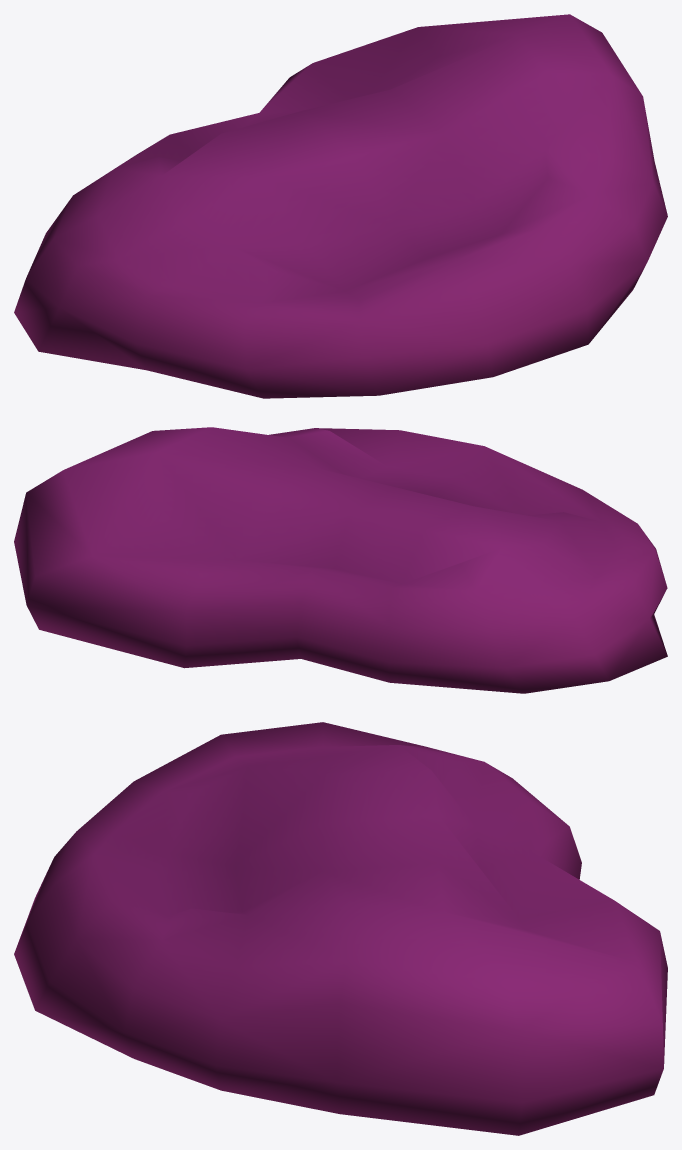
The model's file is Gum_Type3.fbx.
3 views of the same model, one above another, from view 1: azimuth 30°, elevation 25°; view 2: azimuth 150°, elevation 25°; view 3: azimuth 270°, elevation 25° (orthographic). The views are drawn at different scales.
Visible parts, largest first — view 1: Gum_Type3; view 2: Gum_Type3; view 3: Gum_Type3.
Boxes of the visible parts, x1,y1,x2,y2 form: Gum_Type3: [14, 14, 667, 398]; Gum_Type3: [14, 427, 667, 693]; Gum_Type3: [14, 722, 667, 1135].
Size of the model in its own units: 29.02 by 6.47 by 22.37.
